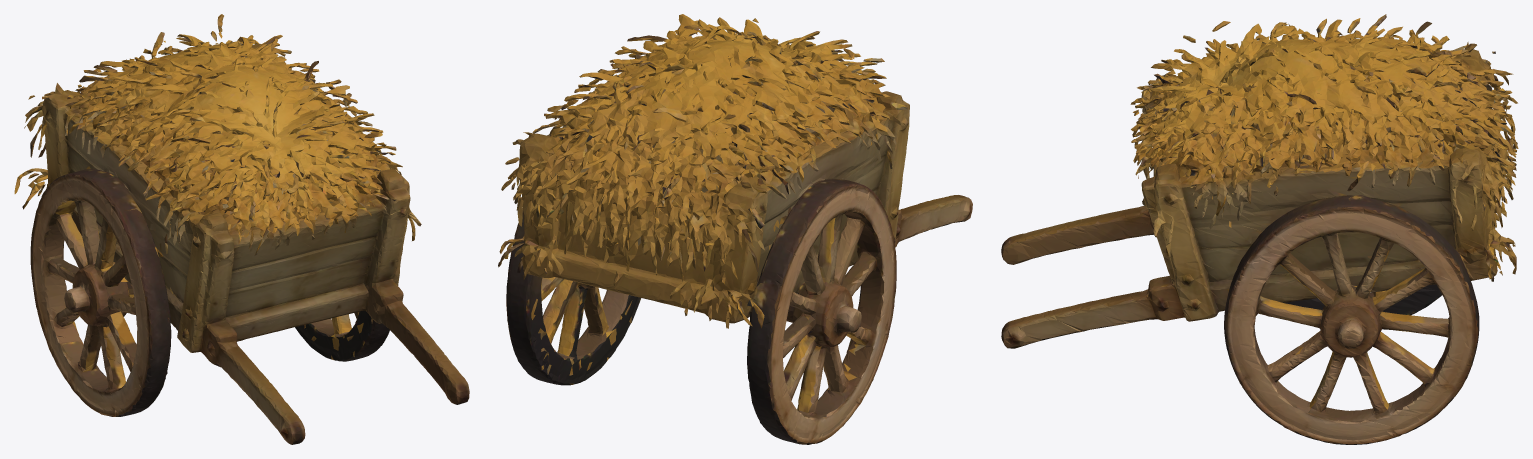
The model's file is prop-cart.glb.
3 views of the same model, side by side, from view 1: azimuth 30°, elevation 25°; view 2: azimuth 150°, elevation 25°; view 3: azimuth 270°, elevation 25° (orthographic). The views are drawn at different scales.
Visible parts, largest first — view 1: geometry_0; view 2: geometry_0; view 3: geometry_0.
Part boxes in pixels (left/top/right/bottom): geometry_0: left=14, top=14, right=469, bottom=444; geometry_0: left=498, top=14, right=972, bottom=444; geometry_0: left=1001, top=14, right=1518, bottom=444.
Size of the model in its own units: 1.37 by 1.46 by 2.
Materials: 1 (1 with a texture image).
